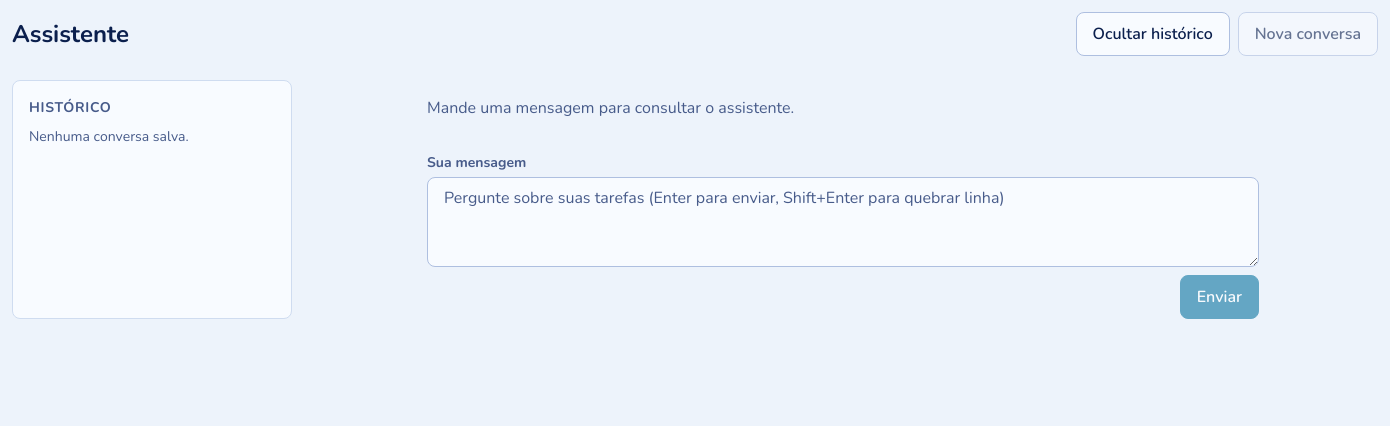
Scenario: AssistantPage › nova conversa limpa o historico e zera o conversationId
The width and height of the screenshot is (1390, 426).
Type "oi" into the text box labelled "Sua mensagem" at (843, 222), box [427,177,1259,267]
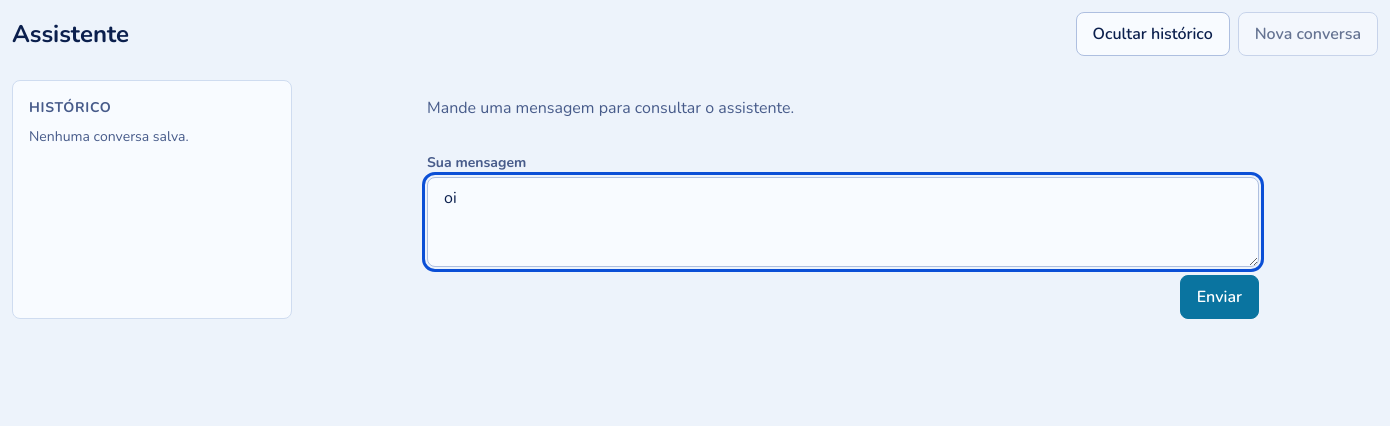
Click the button "Enviar" at (1219, 297), box [1180,275,1259,319]
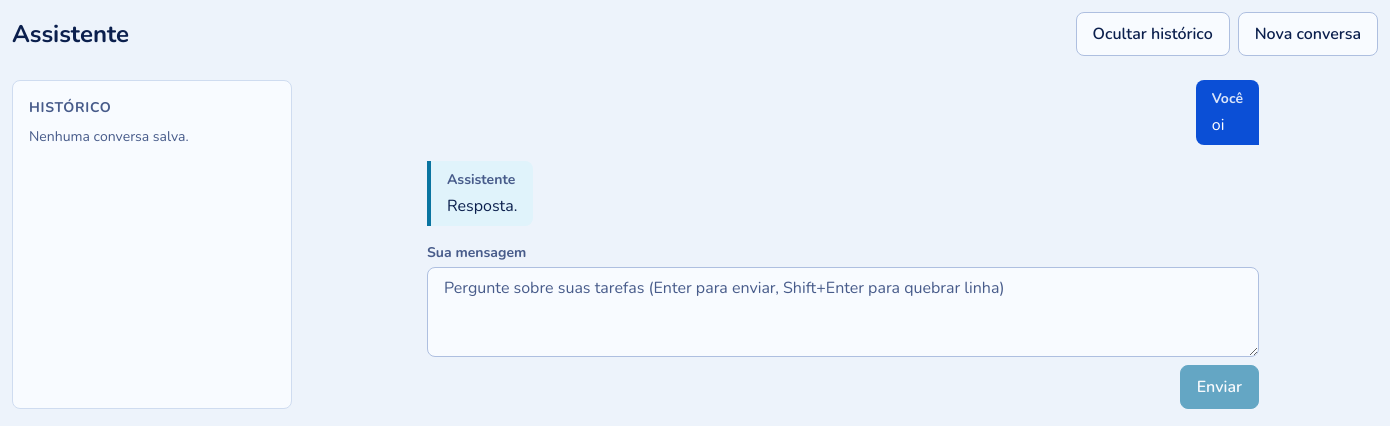
expect the text "Resposta." is shown: met, box [447,194,517,218]
Click the button "Nova conversa" at (1308, 34), box [1238,12,1378,56]
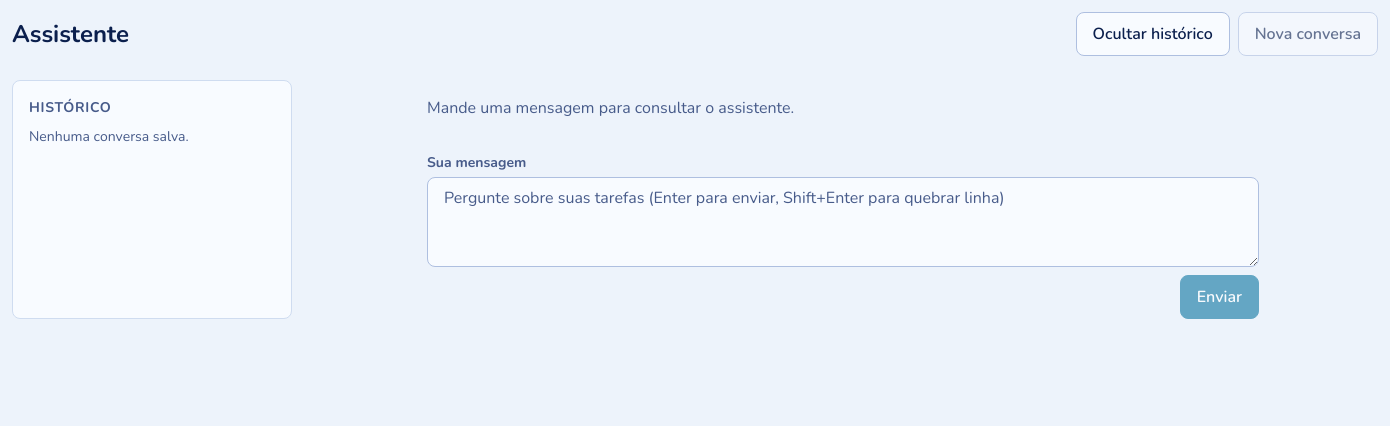
expect the text "oi" is gone: met
expect the text "Resposta." is gone: met
expect the text "Mande uma mensagem para consultar o assistente." is shown: met, box [427,97,794,119]
Type "de novo" into the text box labelled "Sua mensagem" at (843, 222), box [427,177,1259,267]
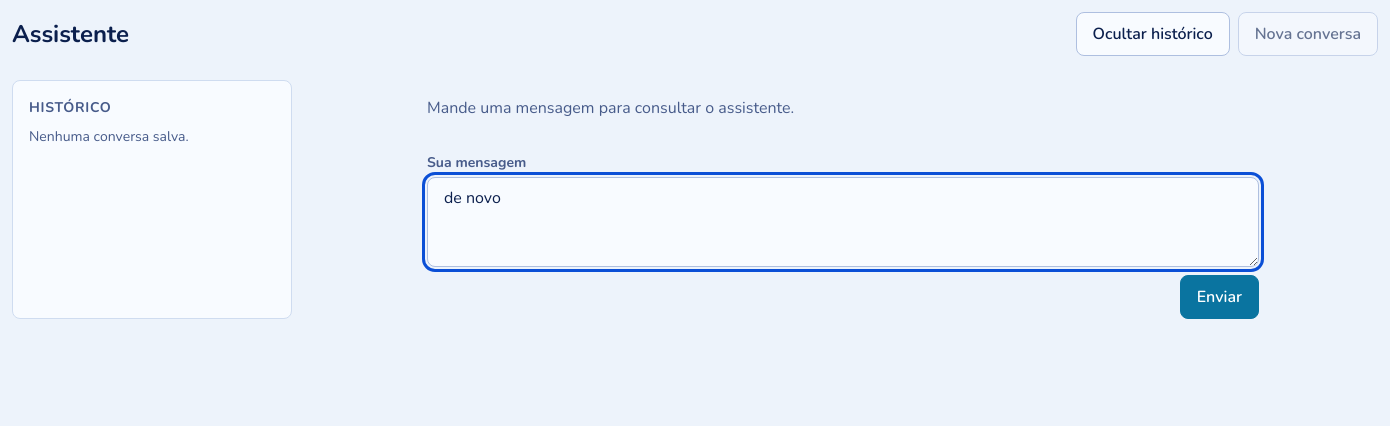
Click the button "Enviar" at (1219, 297), box [1180,275,1259,319]
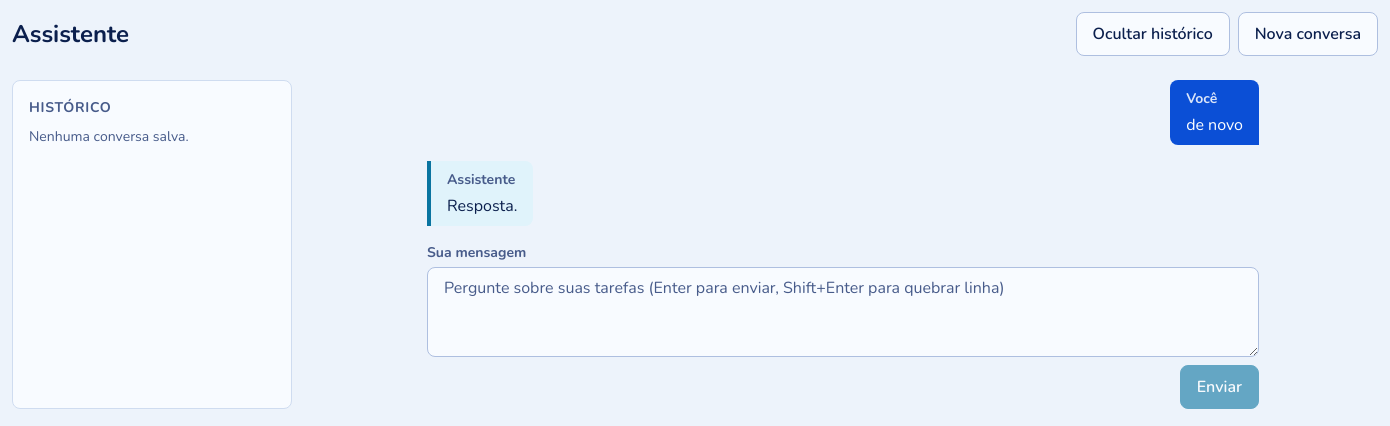
expect the text "Resposta." is shown: met, box [447,194,517,218]
